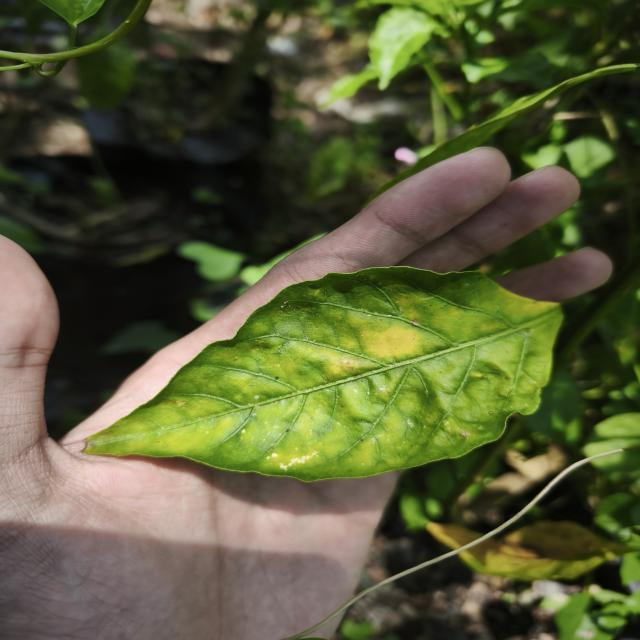Virus Kuning: (80, 264, 564, 483)
